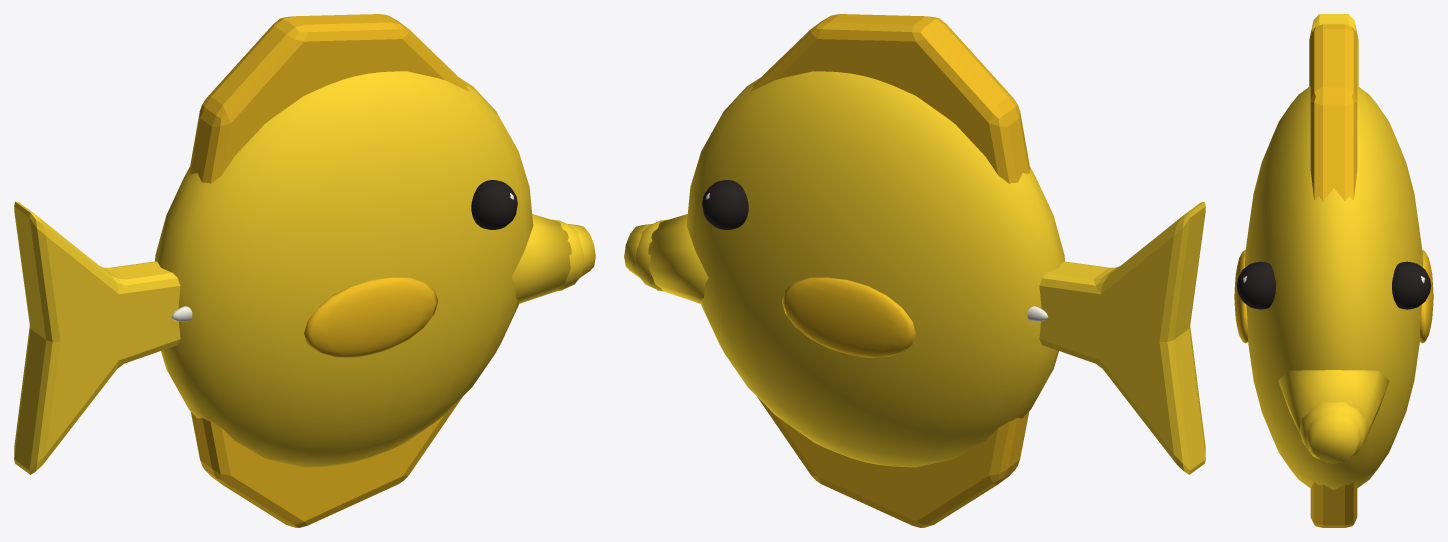
The model's file is yellow_tang.glb.
3 renders of one model, left to right at view 1: azimuth 30°, elevation 25°; view 2: azimuth 150°, elevation 25°; view 3: azimuth 270°, elevation 25°, orthographic. The views are drawn at different scales.
Visible parts, largest first — view 1: yellow_tang; view 2: yellow_tang; view 3: yellow_tang.
Part boxes in pixels (left/top/right/bottom): yellow_tang: left=14, top=14, right=595, bottom=527; yellow_tang: left=624, top=14, right=1205, bottom=527; yellow_tang: left=1234, top=14, right=1433, bottom=527.
Size of the model in its own units: 1.26 by 1.07 by 0.4056.
